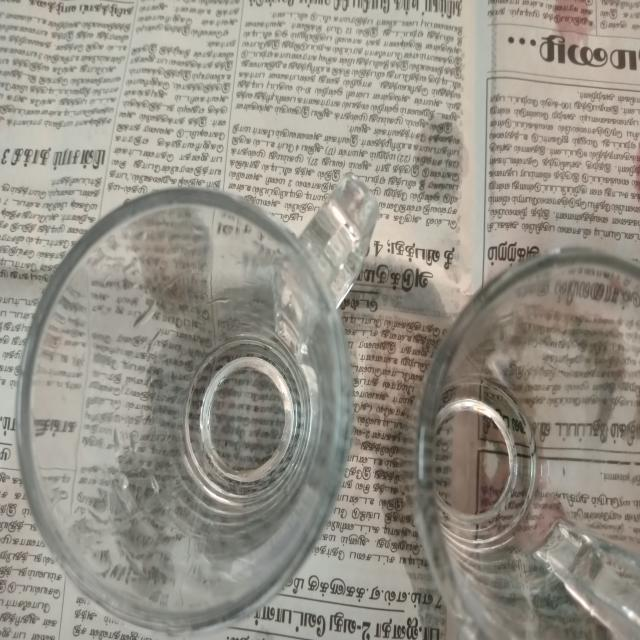glass-VX4N: (15, 171, 379, 640), (408, 244, 640, 640)
